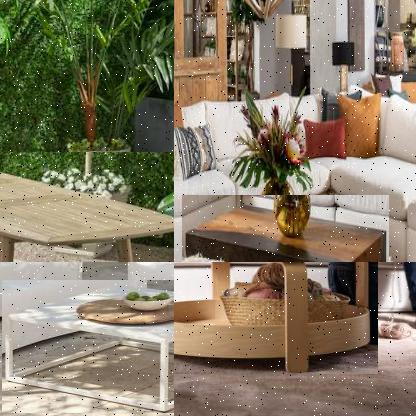table: (174, 262, 378, 376), (1, 280, 173, 415), (0, 152, 173, 261), (181, 195, 390, 261)
